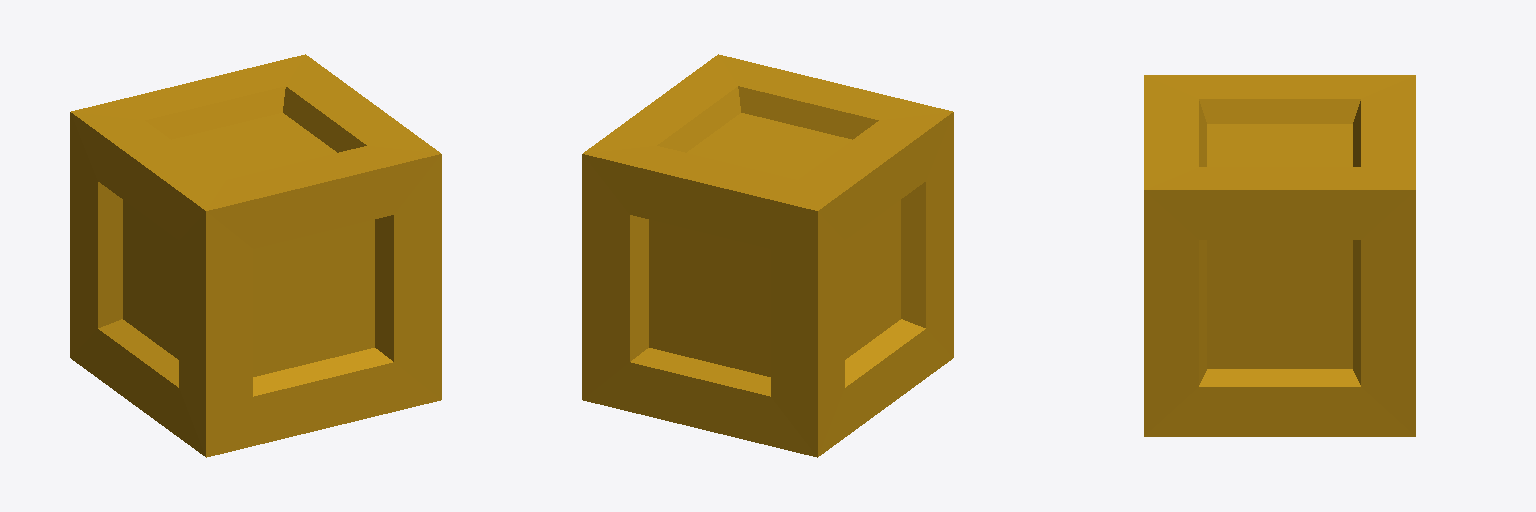
File: boxObj.obj
3 views of the same model, side by side, from view 1: azimuth 30°, elevation 25°; view 2: azimuth 150°, elevation 25°; view 3: azimuth 270°, elevation 25° (orthographic).
Visible parts, largest first — view 1: Cube; view 2: Cube; view 3: Cube.
Boxes of the visible parts, box(x1,y1,x2,y2) form: Cube: box(70, 54, 441, 457); Cube: box(582, 54, 953, 457); Cube: box(1144, 75, 1415, 436).
Size of the model in its own units: 2 by 2 by 2.